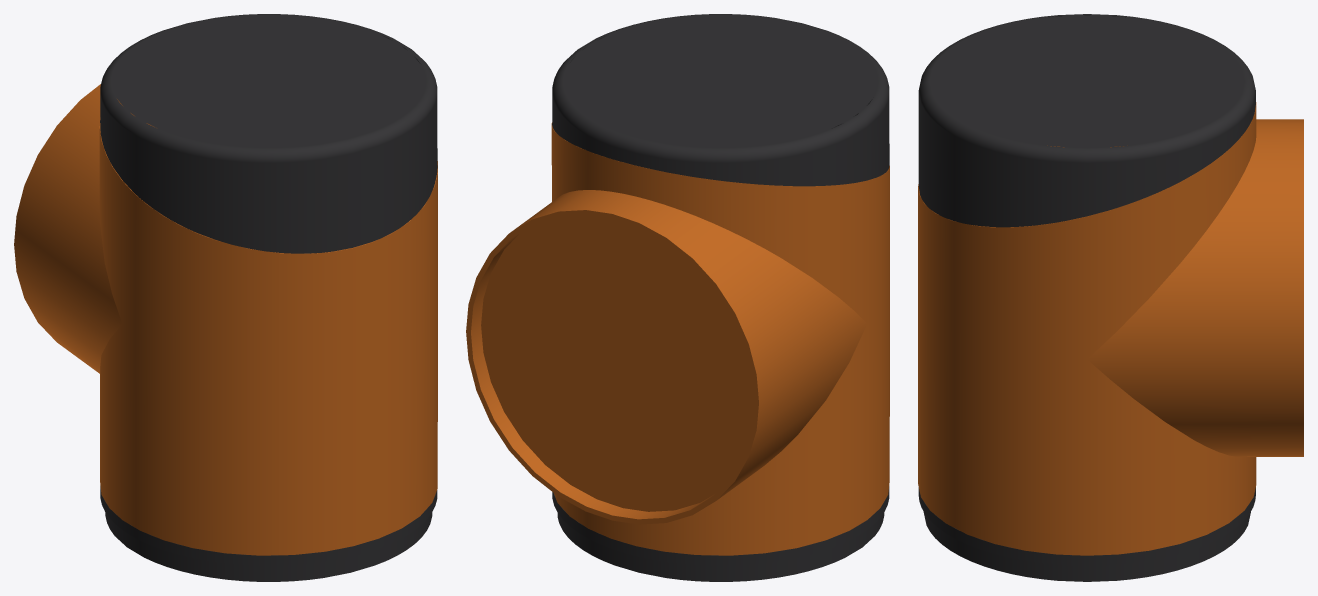
3 renders of one model, left to right at view 1: azimuth 30°, elevation 25°; view 2: azimuth 150°, elevation 25°; view 3: azimuth 270°, elevation 25°, orthographic.
Parts seen in each view (by area): view 1: NONE-DC_Shell, NONE-DC_Shell_ncl1_1, NONE-DC_Shell_ncl1_2; view 2: NONE-DC_Shell, NONE-DC_Shell_ncl1_1, NONE-DC_Shell_ncl1_2; view 3: NONE-DC_Shell, NONE-DC_Shell_ncl1_1, NONE-DC_Shell_ncl1_2.
Part boxes in pixels (left/top/right/bottom): NONE-DC_Shell: left=14, top=84, right=437, bottom=555; NONE-DC_Shell_ncl1_1: left=100, top=14, right=437, bottom=253; NONE-DC_Shell_ncl1_2: left=100, top=486, right=437, bottom=581; NONE-DC_Shell: left=466, top=122, right=889, bottom=555; NONE-DC_Shell_ncl1_1: left=552, top=14, right=889, bottom=186; NONE-DC_Shell_ncl1_2: left=552, top=486, right=889, bottom=581; NONE-DC_Shell: left=918, top=102, right=1303, bottom=555; NONE-DC_Shell_ncl1_1: left=918, top=14, right=1255, bottom=227; NONE-DC_Shell_ncl1_2: left=918, top=487, right=1255, bottom=581.
Size of the model in its own units: 0.15 by 0.171 by 0.211.
